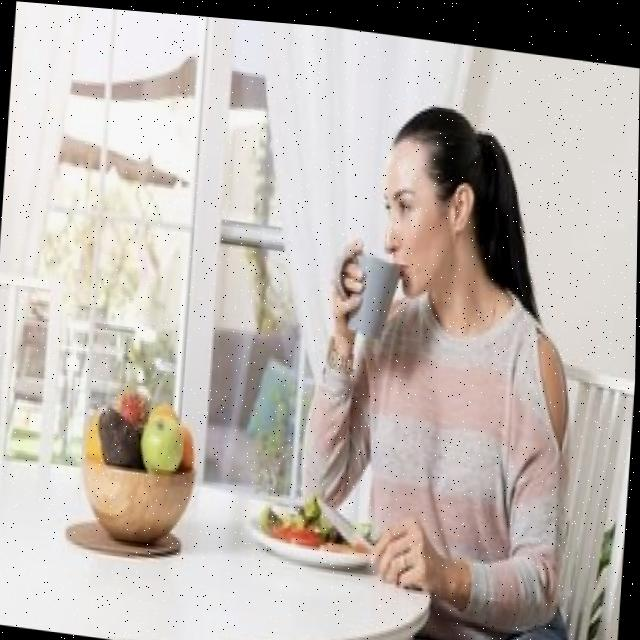eating-person: (236, 61, 620, 640)
